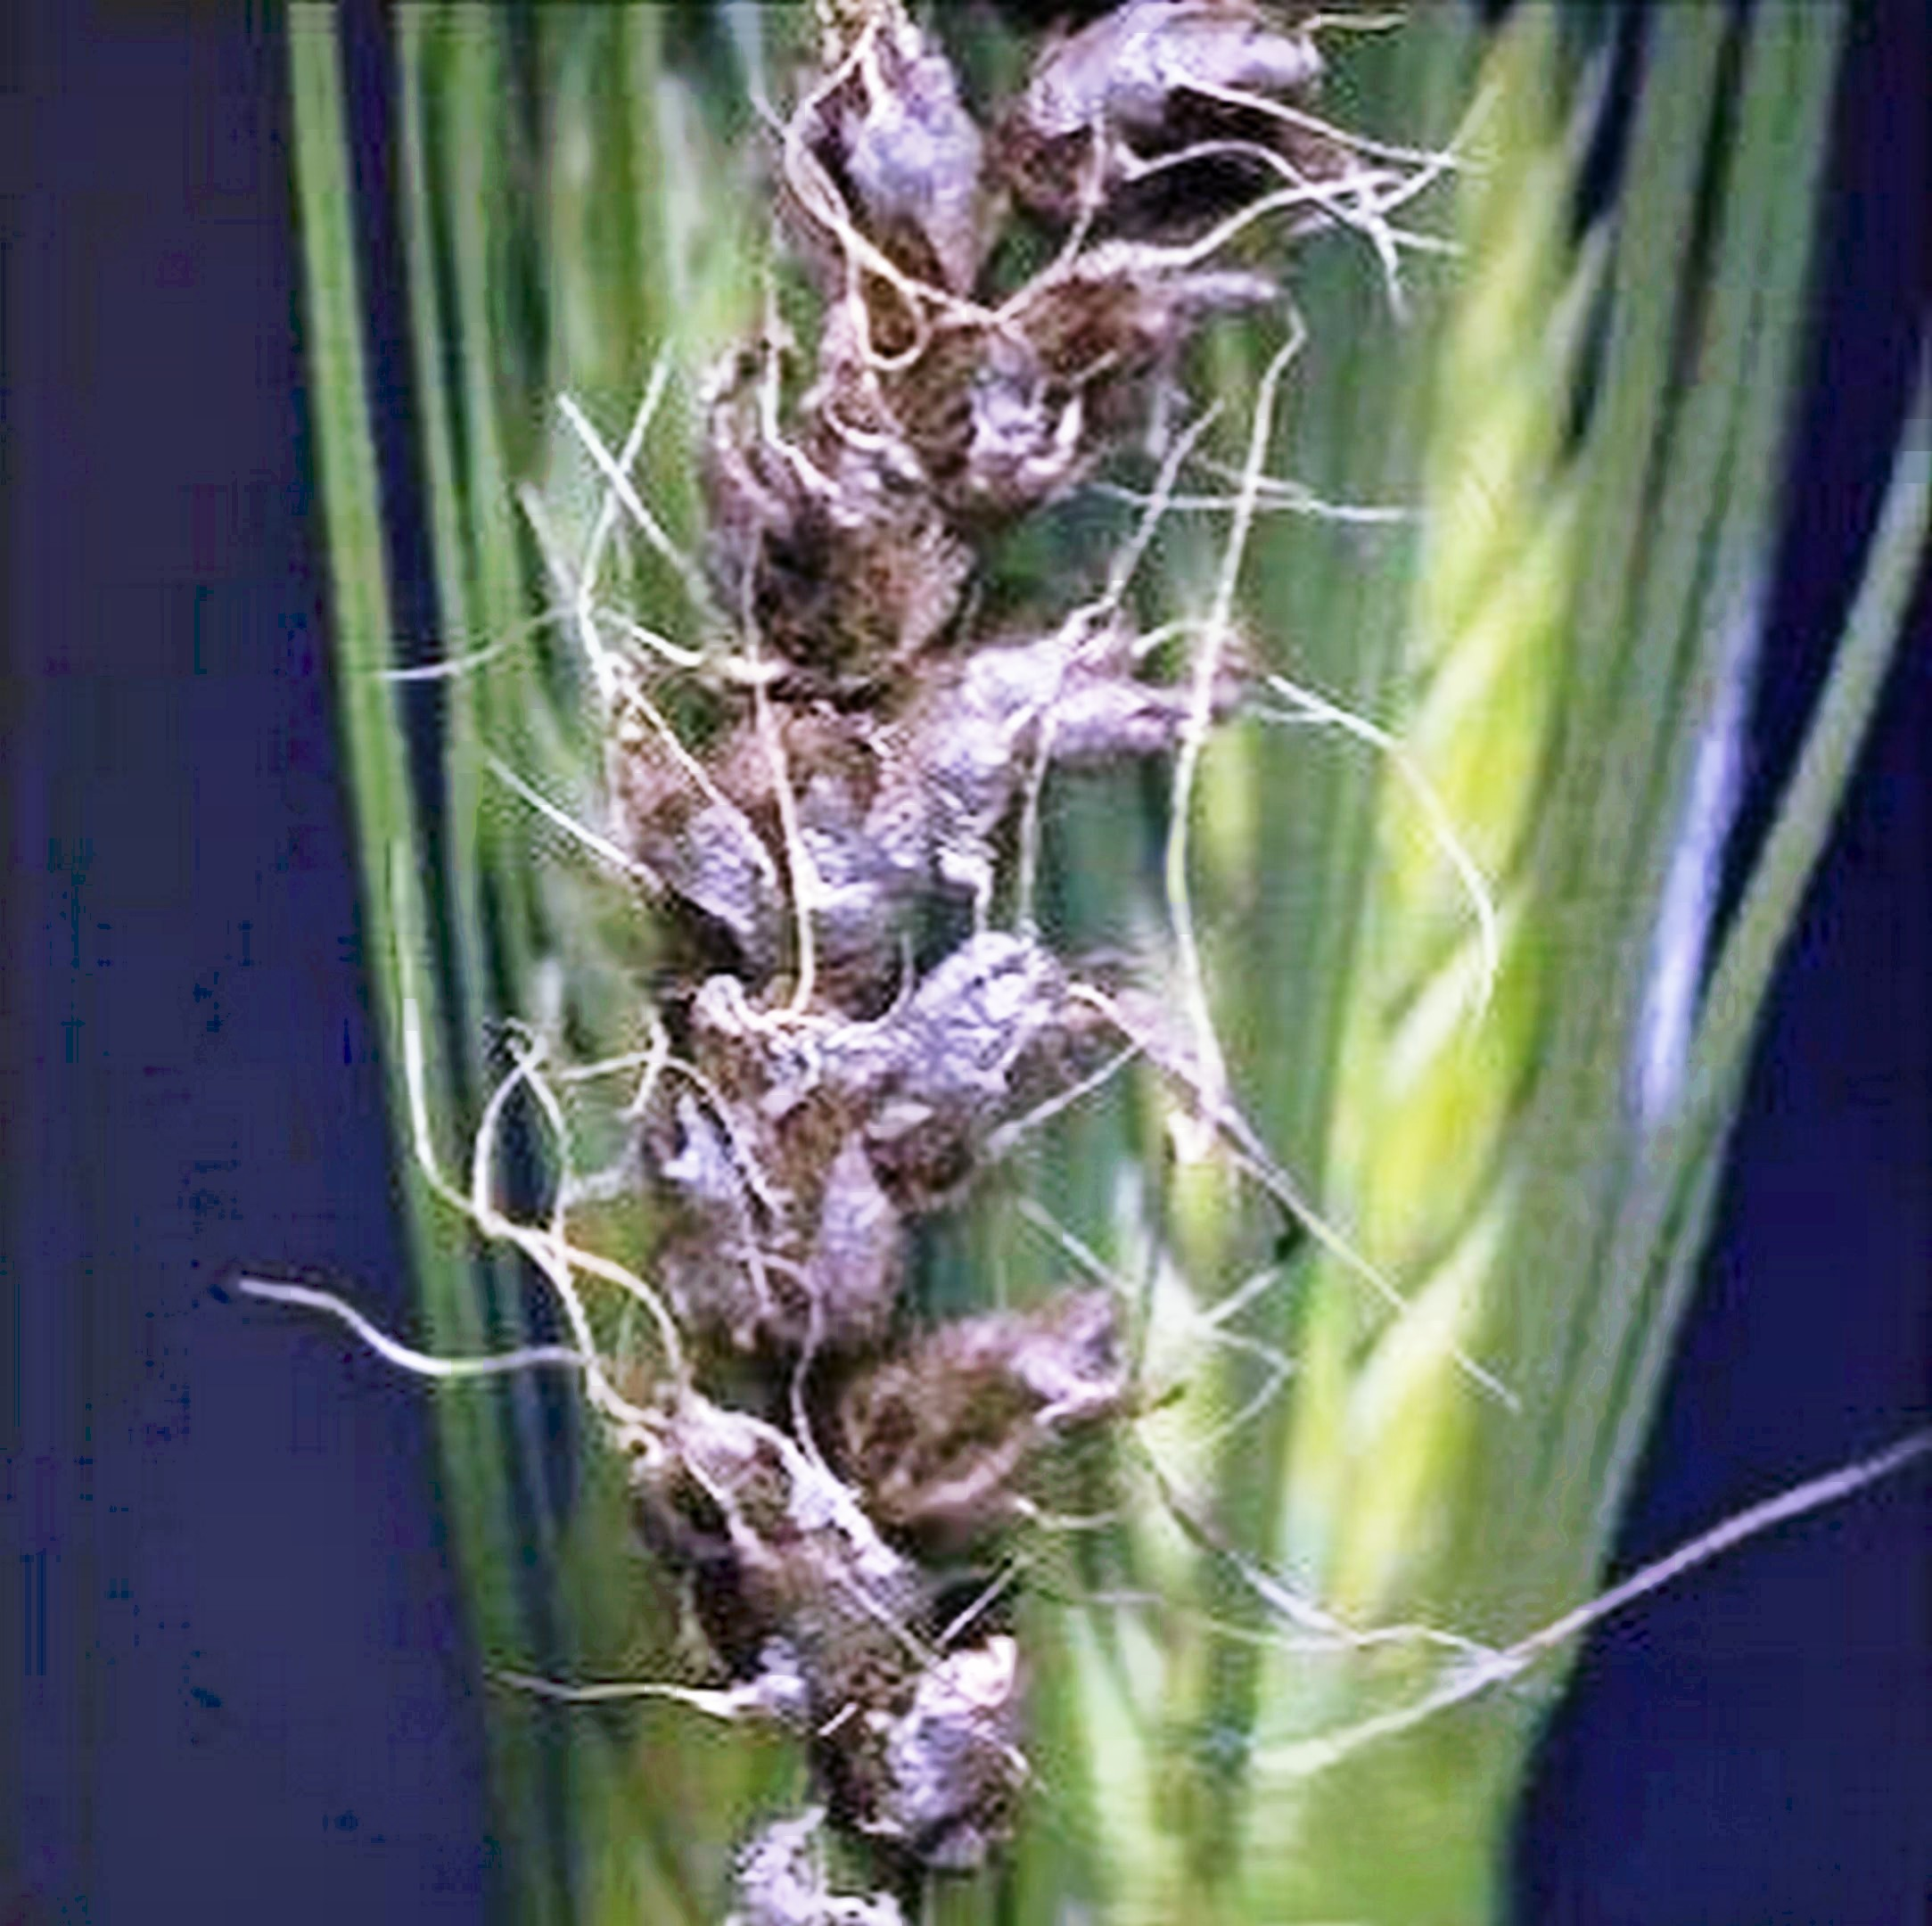Wheat Loose Smut: (559, 34, 1290, 1727)
